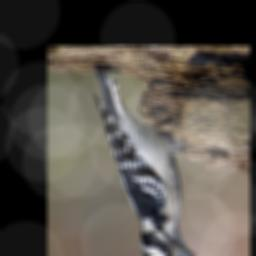Woodpecker: (93, 61, 198, 256)
